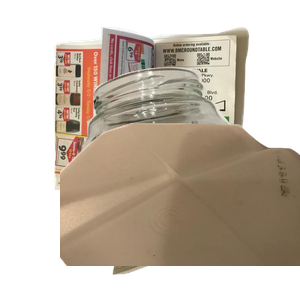glass: (74, 65, 300, 245)
paper: (51, 24, 291, 204)
plastic: (60, 120, 300, 300)
trash: (61, 127, 260, 300)
